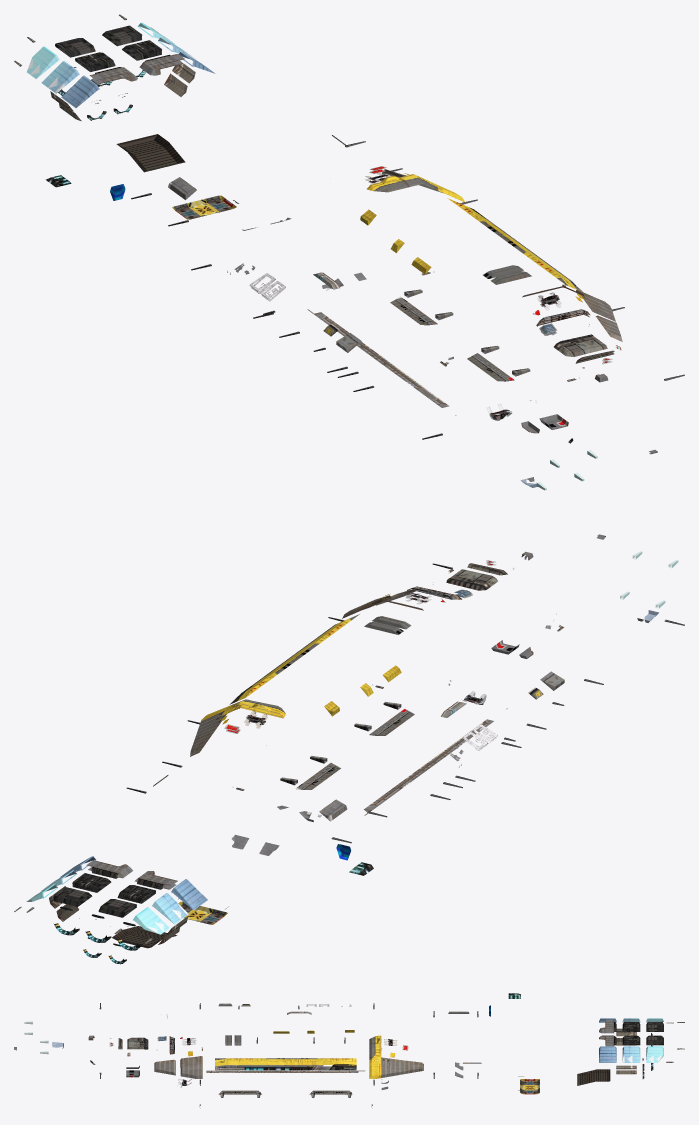
Rendered from Goblins-UVFlip.obj.
3 renders of one model, top to bottom at view 1: azimuth 30°, elevation 25°; view 2: azimuth 150°, elevation 25°; view 3: azimuth 270°, elevation 25°, orthographic. The views are drawn at different scales.
Visible parts, largest first — view 1: Hgn_Carrier_Main_TEX, Hgn_C_Innate_Resource_TEX; view 2: Hgn_Carrier_Main_TEX, Hgn_Carrier_Engine_TEX; view 3: Hgn_Carrier_Main_TEX, Hgn_C_Innate_Resource_TEX.
Part boxes in pixels (x1,y1,x2,y2): Hgn_Carrier_Main_TEX: (14, 14, 684, 490); Hgn_C_Innate_Resource_TEX: (172, 195, 236, 219); Hgn_Carrier_Main_TEX: (14, 534, 684, 948); Hgn_Carrier_Engine_TEX: (53, 844, 373, 964); Hgn_Carrier_Main_TEX: (14, 1003, 684, 1108); Hgn_C_Innate_Resource_TEX: (520, 1079, 539, 1094).
Size of the model in its own units: 222 by 76.34 by 708.
